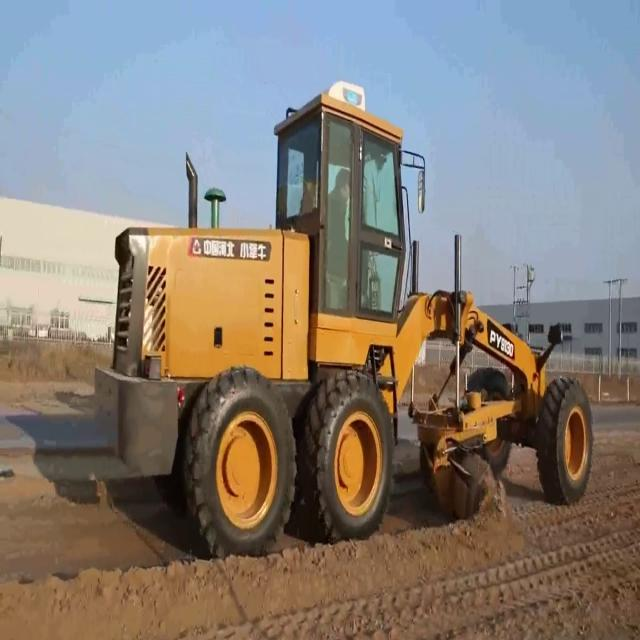buldozerpayloadergrader: (92, 96, 594, 556)
